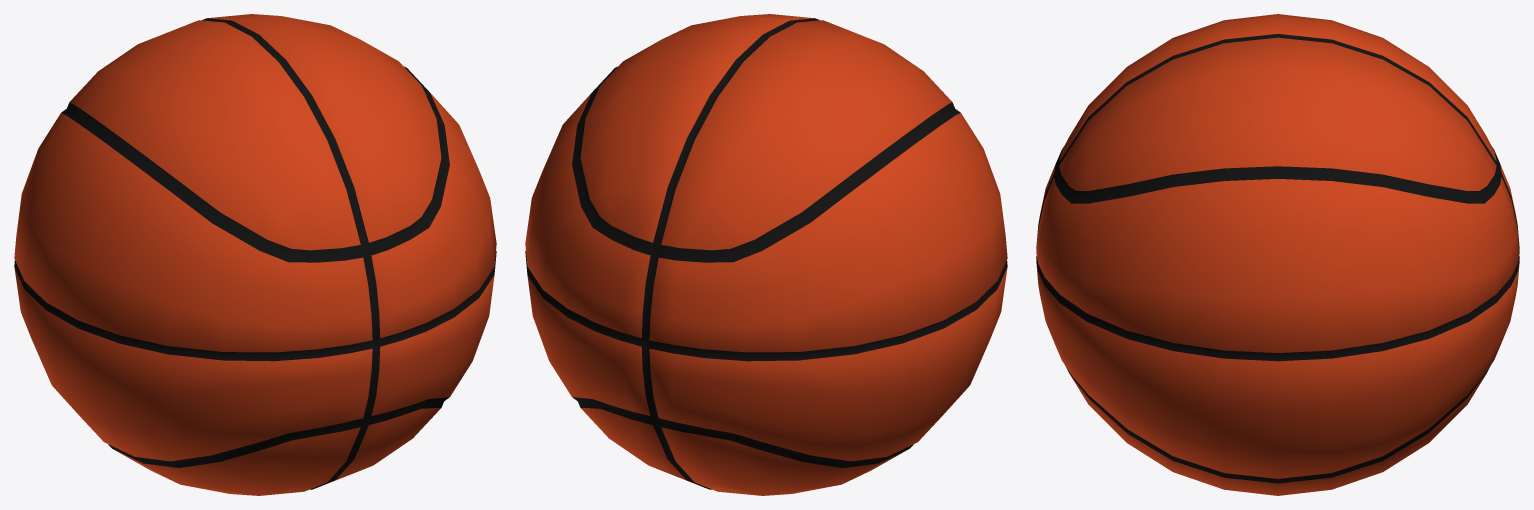
Rendered from basketball.fbx.
The picture shows the model from 3 angles, left to right: view 1: azimuth 30°, elevation 25°; view 2: azimuth 150°, elevation 25°; view 3: azimuth 270°, elevation 25°; orthographic projection.
Visible parts, largest first — view 1: Basketball; view 2: Basketball; view 3: Basketball.
Part boxes in pixels (x1,y1,x2,y2): Basketball: (14, 14, 496, 495); Basketball: (525, 14, 1007, 495); Basketball: (1036, 14, 1519, 495).
Size of the model in its own units: 1.94 by 1.94 by 1.94.
